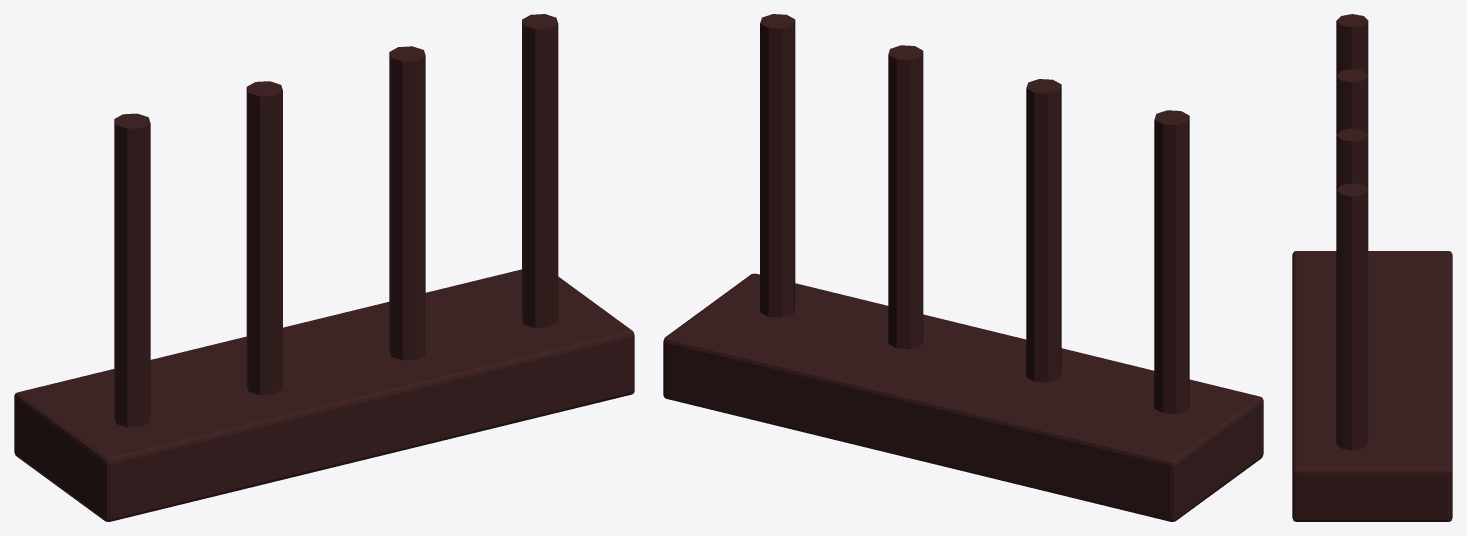
File: Shrine.fbx
3 renders of one model, left to right at view 1: azimuth 30°, elevation 25°; view 2: azimuth 150°, elevation 25°; view 3: azimuth 270°, elevation 25°, orthographic. The views are drawn at different scales.
Parts seen in each view (by area): view 1: ShrineBase.001; view 2: ShrineBase.001; view 3: ShrineBase.001.
Boxes of the visible parts, left/top/right/bottom form: ShrineBase.001: left=14, top=14, right=634, bottom=521; ShrineBase.001: left=663, top=14, right=1263, bottom=521; ShrineBase.001: left=1292, top=14, right=1452, bottom=521.
Size of the model in its own units: 2600 by 1700 by 800.
